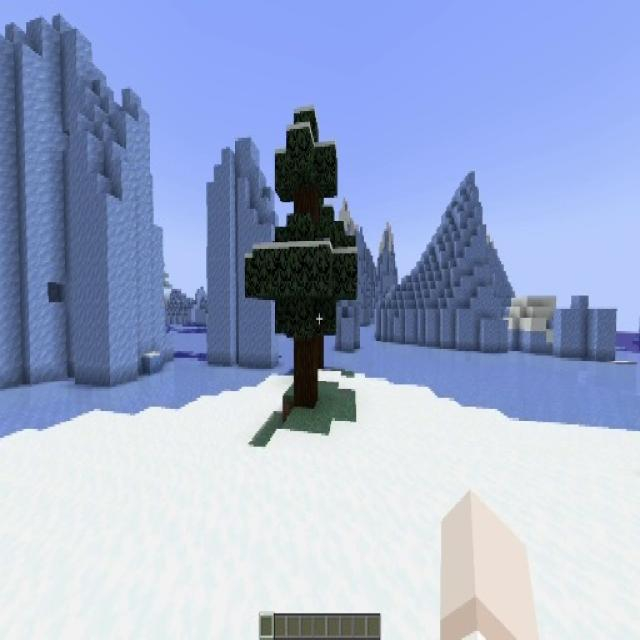spruce: (242, 102, 358, 414)
spruce_log: (293, 332, 318, 406)
